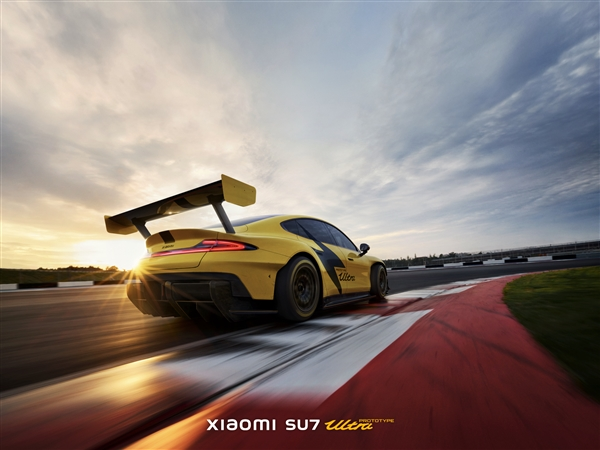su7: (114, 181, 386, 321)
